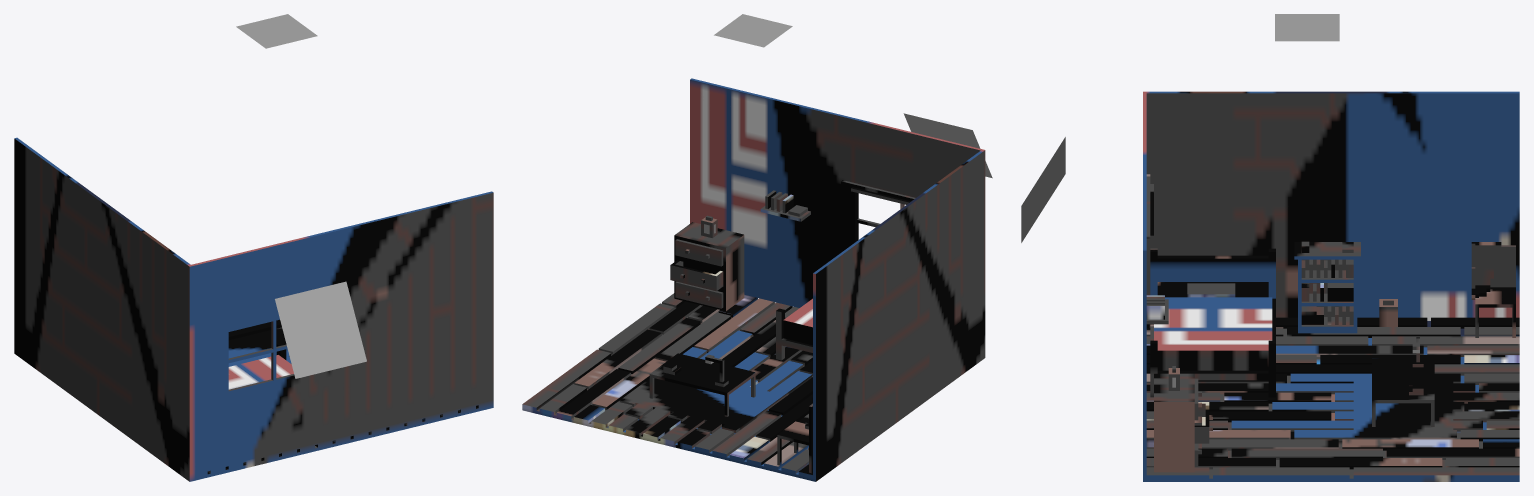
Rendered from room.obj.
The picture shows the model from 3 angles, left to right: view 1: azimuth 30°, elevation 25°; view 2: azimuth 150°, elevation 25°; view 3: azimuth 270°, elevation 25°; orthographic projection. The views are drawn at different scales.
Visible parts, largest first — view 1: bedroom.merged_Plane-tex, Plane, Plane.001; view 2: bedroom.merged_Plane-tex, Plane.001, Plane; view 3: bedroom.merged_Plane-tex, Plane.001, Plane.
Part boxes in pixels (x1,y1,x2,y2): bedroom.merged_Plane-tex: (14,137,493,481); Plane: (275,281,366,378); Plane.001: (236,14,317,48); bedroom.merged_Plane-tex: (522,78,985,481); Plane.001: (714,14,792,47); Plane: (903,113,992,178); bedroom.merged_Plane-tex: (1143,91,1519,481); Plane.001: (1275,14,1339,41); Plane: (1021,137,1065,242).
Size of the model in its own units: 102 by 114 by 135.
Materials: 5 (1 with a texture image).
